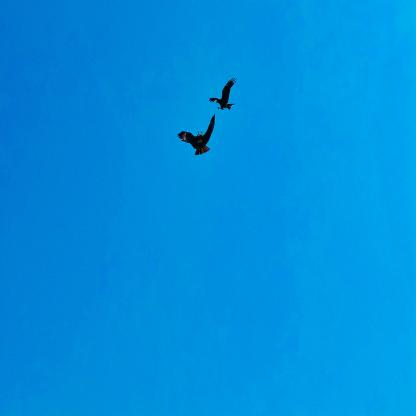bird: (178, 114, 216, 156), (209, 78, 237, 110)
